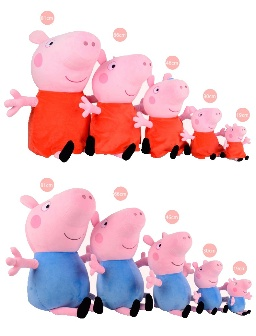Peppa: (5, 30, 97, 160), (89, 54, 149, 161), (141, 74, 185, 158), (188, 107, 225, 160), (222, 123, 249, 164)
